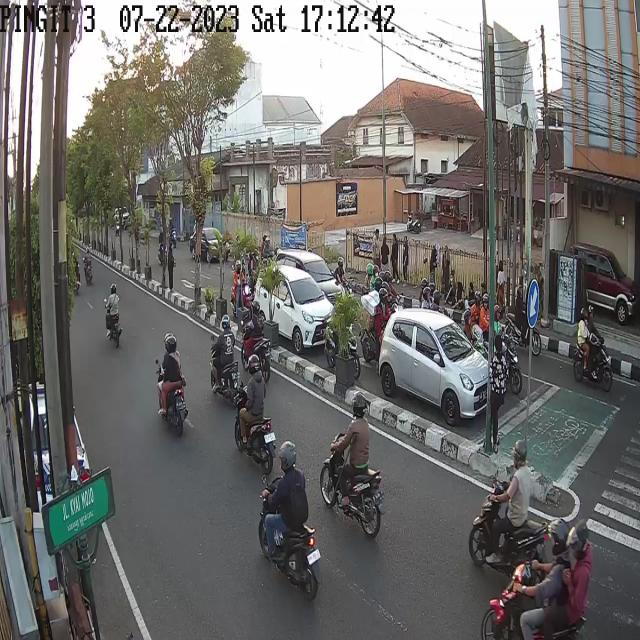car: (377, 310, 494, 428), (250, 266, 334, 352), (574, 245, 637, 328), (275, 248, 346, 298), (190, 226, 229, 260)
motorcycle: (481, 514, 592, 640), (469, 437, 543, 569), (260, 439, 319, 602), (322, 388, 386, 531), (236, 358, 275, 460), (574, 305, 614, 394), (158, 332, 189, 438), (208, 311, 242, 399), (505, 285, 540, 357), (230, 262, 252, 316), (106, 284, 122, 350), (82, 246, 92, 286), (159, 227, 167, 266)
